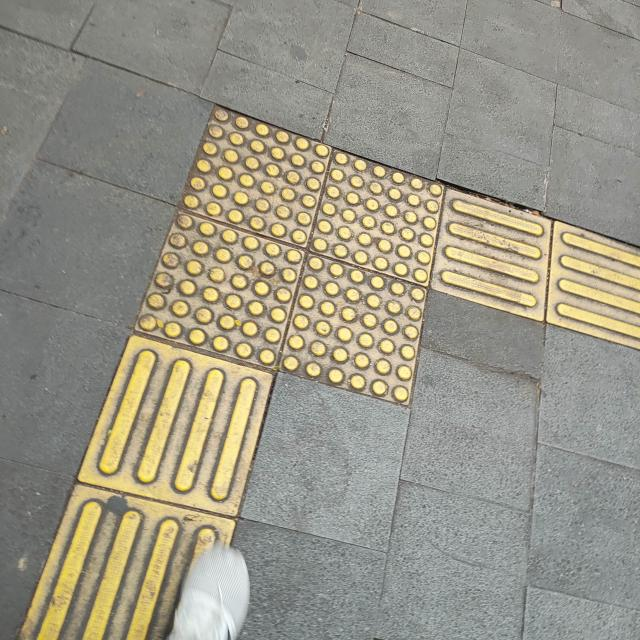kanan: (72, 44, 640, 456)
